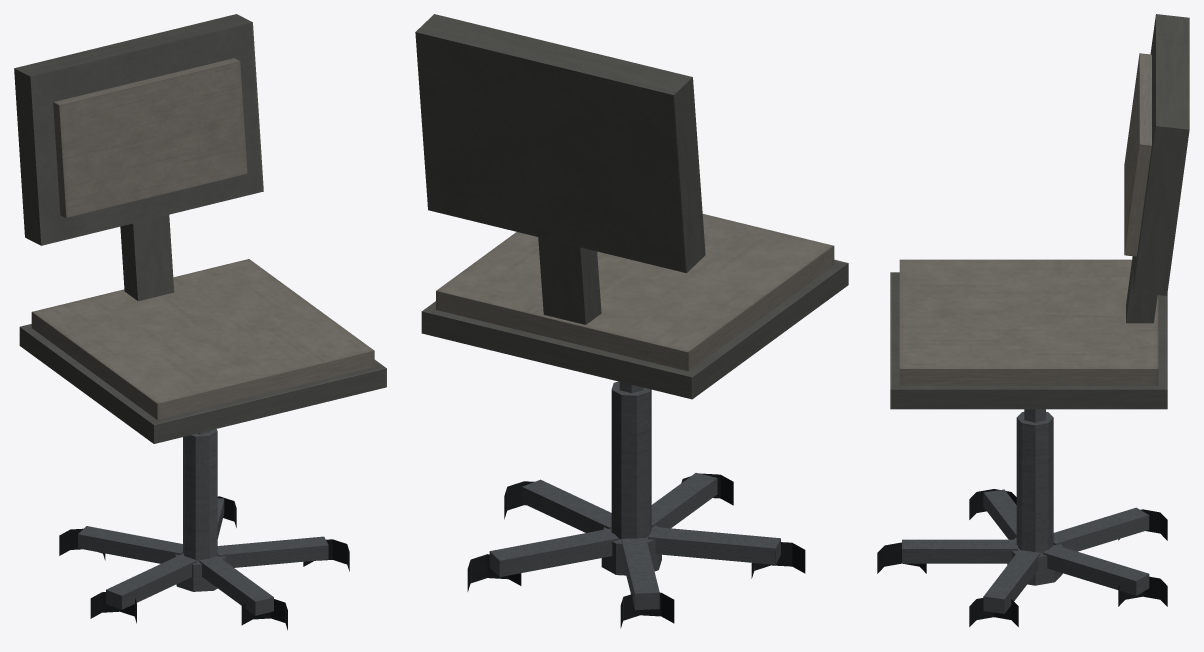
The model's file is chair.glb.
3 views of the same model, side by side, from view 1: azimuth 30°, elevation 25°; view 2: azimuth 150°, elevation 25°; view 3: azimuth 270°, elevation 25° (orthographic). The views are drawn at different scales.
Visible parts, largest first — view 1: core_chair; view 2: core_chair; view 3: core_chair.
Part boxes in pixels (x1=…): core_chair: x1=14, y1=14, x2=386, y2=630; core_chair: x1=415, y1=14, x2=848, y2=628; core_chair: x1=877, y1=14, x2=1189, y2=626.
Bounding box in the file's own units: 0.4909 × 0.9022 × 0.5066.
1 material, 1 textured.
